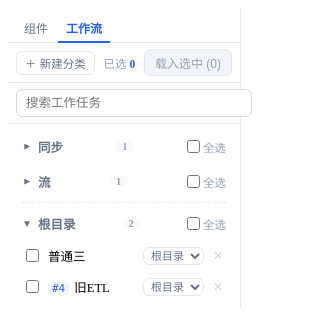
it: INC4-FE-4 工作流目录树（三分类收窄 + 行操作 RED 降级） › kw 过滤：命中行过滤（目录/根目录同步收窄）+ 无命中「无匹配任务」
Step 1. Type "流二" into the field with placeholder "搜索工作任务" → (134, 103), box [16,89,252,117]
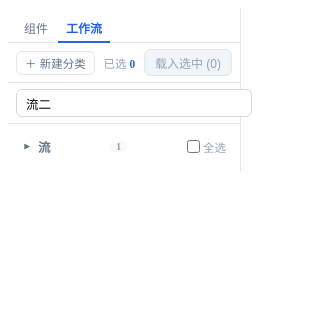
Expected: the element showing "▼ 流 1 全选" is shown, [22,140,226,155]
# 无命中 → 空态「无匹配任务」（三分支 kw 分支）
Step 2. Replace the text in the field with "xyz" → (134, 103), box [16,89,252,117]
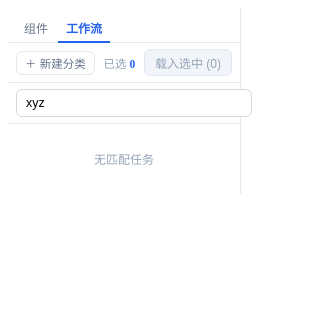
Result: the text "无匹配任务" is shown at [94,153,154,167]
